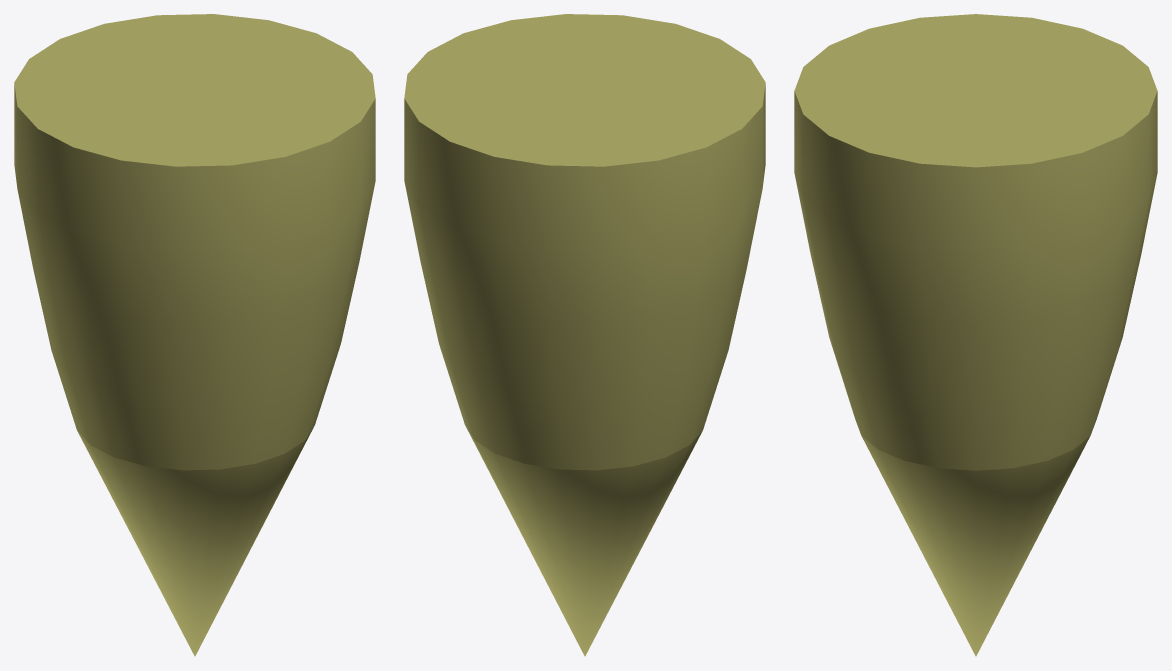
The model's file is Ranger_TestLevel_FallingPlatform.fbx.
The picture shows the model from 3 angles, left to right: view 1: azimuth 30°, elevation 25°; view 2: azimuth 150°, elevation 25°; view 3: azimuth 270°, elevation 25°; orthographic projection.
Parts seen in each view (by area): view 1: pCylinder1; view 2: pCylinder1; view 3: pCylinder1.
Boxes of the visible parts, x1=… form: pCylinder1: x1=14, y1=14, x2=375, y2=656; pCylinder1: x1=404, y1=14, x2=765, y2=656; pCylinder1: x1=794, y1=14, x2=1157, y2=656.
Size of the model in its own units: 5.4 by 9.29 by 5.4.
